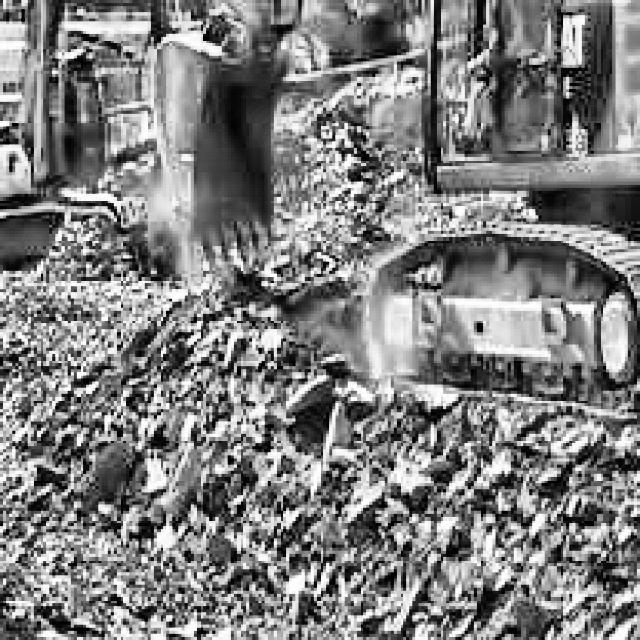excavator: (172, 0, 640, 443), (0, 0, 172, 307)
